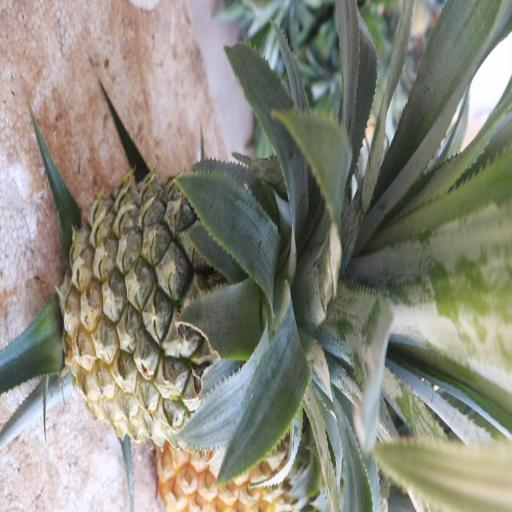------------------------------: (58, 162, 324, 434)
